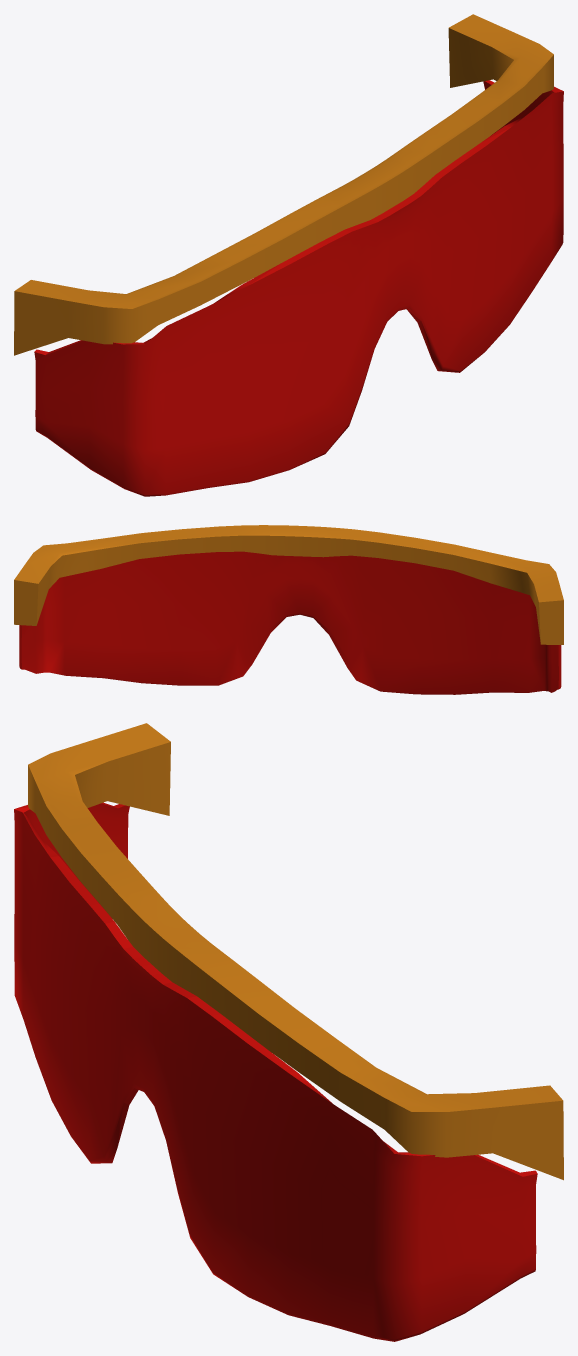
3 renders of one model, top to bottom at view 1: azimuth 30°, elevation 25°; view 2: azimuth 150°, elevation 25°; view 3: azimuth 270°, elevation 25°, orthographic. The views are drawn at different scales.
Parts seen in each view (by area): view 1: 302, cool_glasses_goggle; view 2: 302, cool_glasses_goggle; view 3: 302, cool_glasses_goggle.
Part boxes in pixels (box(x1,y1,x2,y2)): 302: box(34, 80, 563, 496); cool_glasses_goggle: box(14, 14, 553, 355); 302: box(19, 551, 561, 694); cool_glasses_goggle: box(14, 525, 563, 644); 302: box(14, 802, 537, 1341); cool_glasses_goggle: box(28, 723, 563, 1180).
Size of the model in its own units: 86.02 by 51.13 by 29.59.
